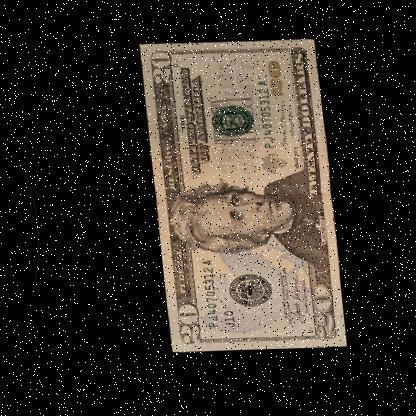twenty-front: (136, 39, 338, 353)
